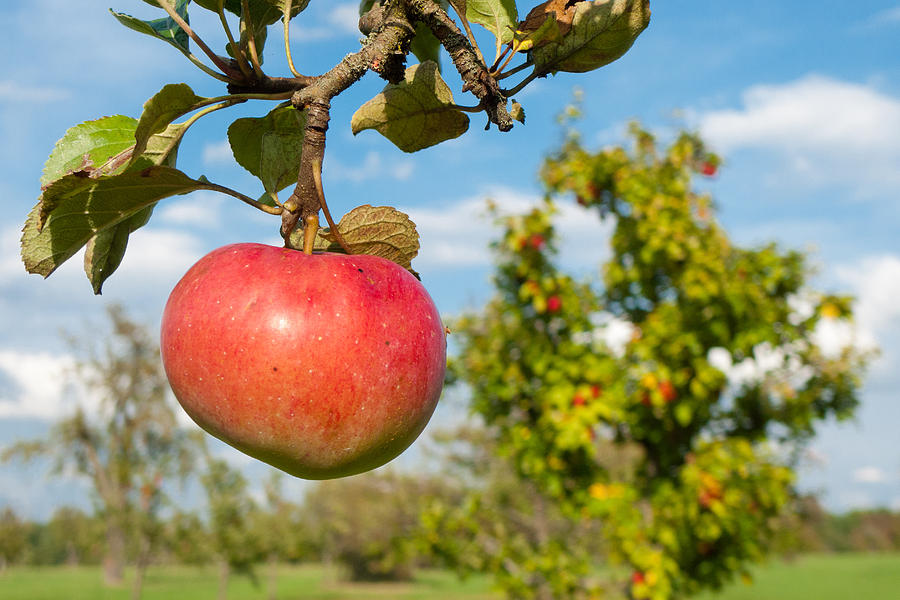apple: (162, 240, 446, 482)
